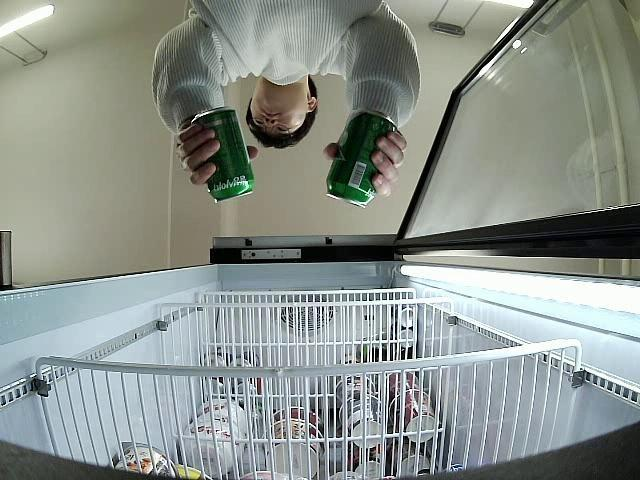12_chilsungCider: (324, 107, 400, 210), (190, 105, 256, 203)
